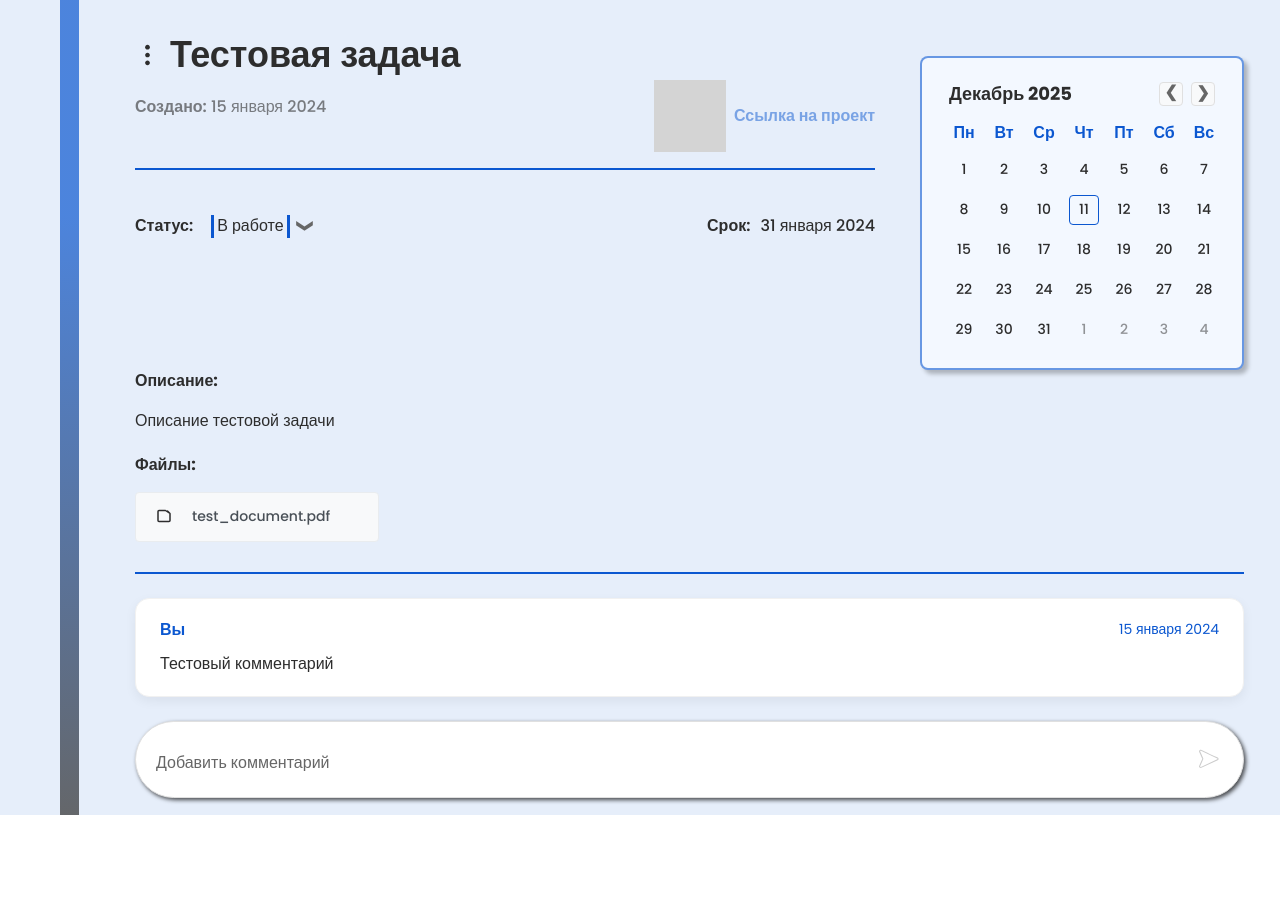
Test: TaskInfo Component › Manager actions › should open edit modal when manager clicks edit
This screenshot has width=1280, height=900.
Click the button with test id "manager-edit-button".
click(148, 55)  # box [135,43,160,68]
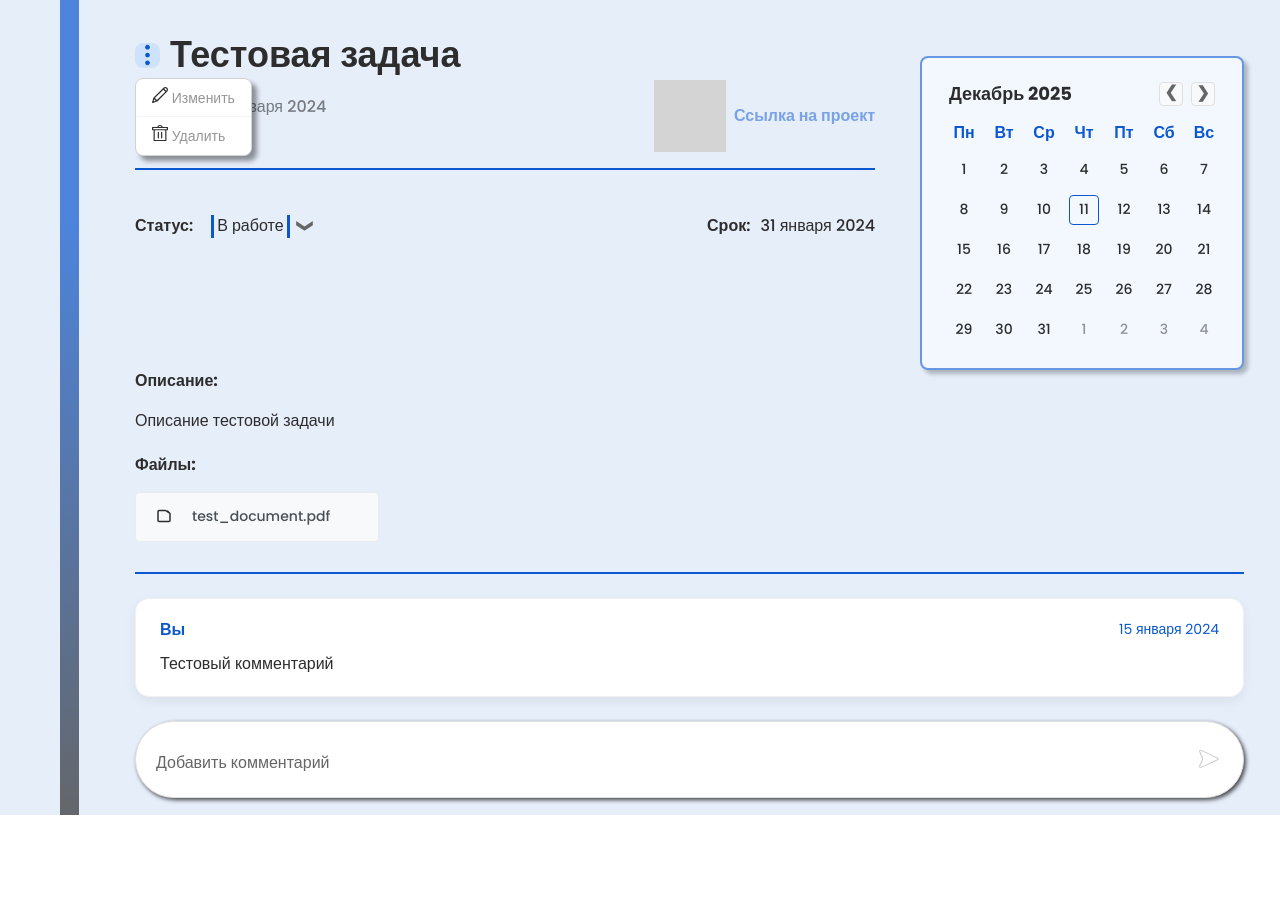
Click the element with test id "edit-task-btn".
click(193, 98)  # box [136,79,251,117]
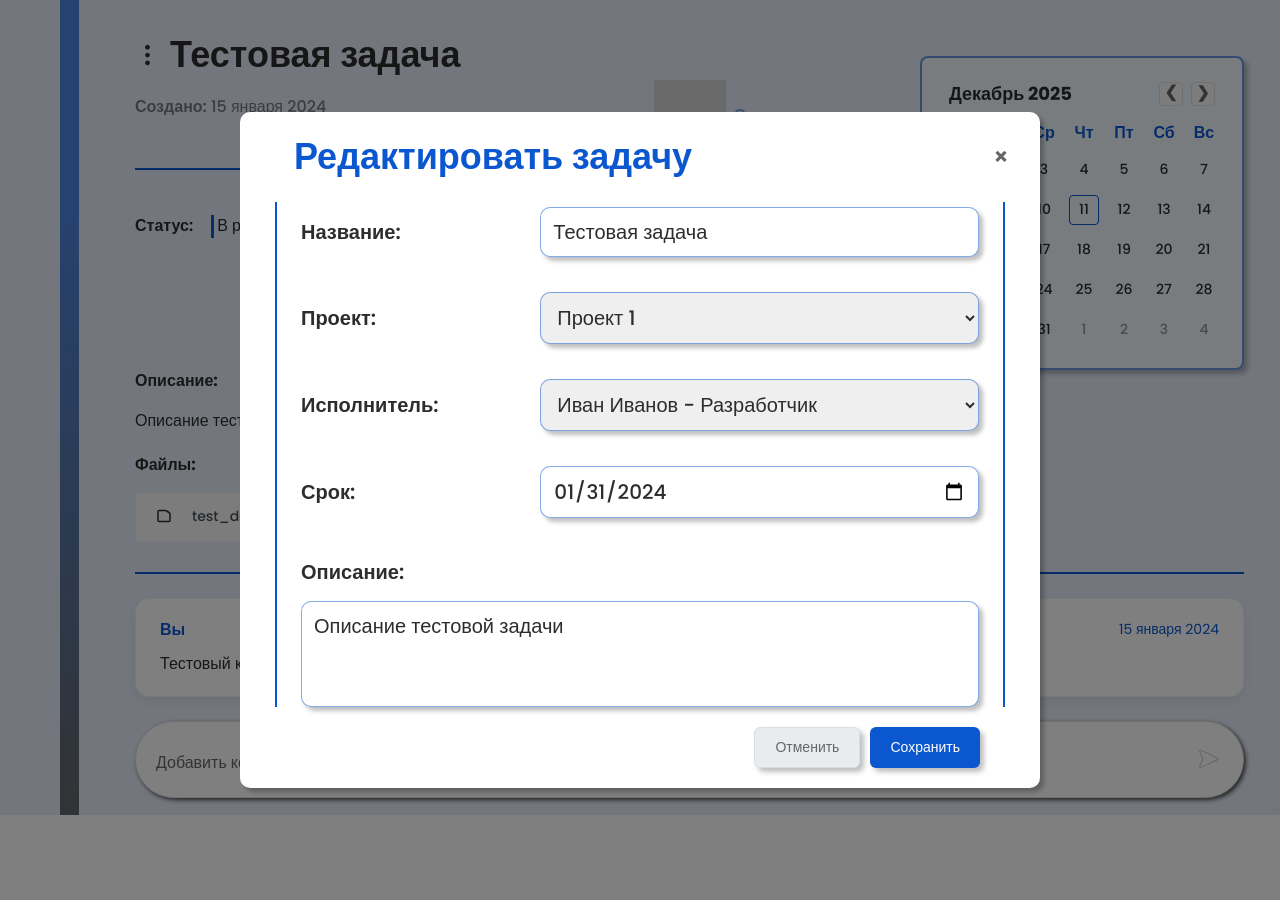
Expected: the heading "Редактировать задачу" is shown, [294,132,692,182]
